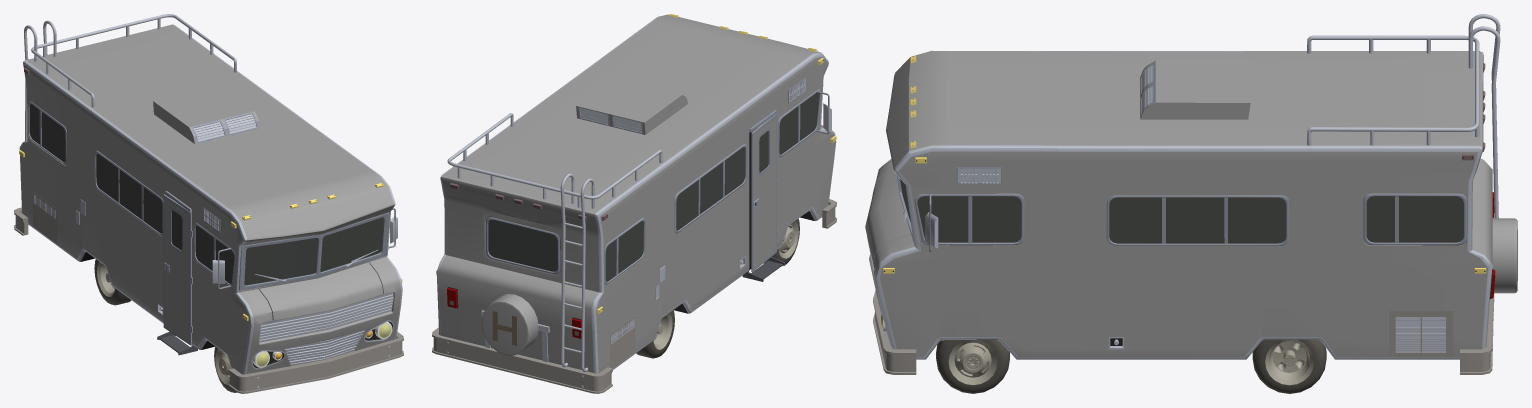
The model's file is MotorHome.fbx.
The picture shows the model from 3 angles, left to right: view 1: azimuth 30°, elevation 25°; view 2: azimuth 150°, elevation 25°; view 3: azimuth 270°, elevation 25°; orthographic projection. The views are drawn at different scales.
Parts seen in each view (by area): view 1: polySurface391, polySurface483, polySurface440, polySurface460, polySurface436, polySurface453, polySurface433, polySurface469, polySurface488, polySurface320, polySurface389, polySurface463 (+7 smaller); view 2: polySurface391, polySurface484, polySurface440, polySurface436, polySurface478, polySurface453, polySurface471, polySurface469, polySurface433, polySurface488, polySurface439, polySurface393 (+4 smaller); view 3: polySurface391, polySurface450, polySurface436, polySurface459, polySurface420, polySurface311, polySurface488, polySurface471, polySurface349, polySurface348, polySurface460, polySurface385 (+3 smaller).
Part boxes in pixels (x1=…): polySurface391: x1=19, y1=24, x2=402, y2=374; polySurface483: x1=239, y1=212, x2=389, y2=290; polySurface440: x1=163, y1=194, x2=191, y2=345; polySurface460: x1=228, y1=332, x2=403, y2=393; polySurface436: x1=153, y1=85, x2=260, y2=143; polySurface453: x1=94, y1=150, x2=163, y2=236; polySurface433: x1=28, y1=101, x2=66, y2=165; polySurface469: x1=193, y1=222, x2=235, y2=286; polySurface488: x1=31, y1=14, x2=236, y2=107; polySurface320: x1=94, y1=259, x2=131, y2=305; polySurface389: x1=33, y1=192, x2=57, y2=243; polySurface463: x1=260, y1=297, x2=393, y2=331; polySurface391: x1=436, y1=14, x2=836, y2=373; polySurface484: x1=432, y1=327, x2=612, y2=393; polySurface440: x1=751, y1=114, x2=776, y2=272; polySurface436: x1=576, y1=78, x2=687, y2=134; polySurface478: x1=486, y1=217, x2=560, y2=274; polySurface453: x1=674, y1=144, x2=746, y2=233; polySurface471: x1=481, y1=294, x2=538, y2=355; polySurface469: x1=778, y1=89, x2=821, y2=157; polySurface433: x1=604, y1=217, x2=645, y2=284; polySurface488: x1=447, y1=113, x2=662, y2=199; polySurface439: x1=580, y1=178, x2=594, y2=372; polySurface393: x1=560, y1=173, x2=574, y2=367; polySurface391: x1=865, y1=50, x2=1492, y2=359; polySurface450: x1=1106, y1=195, x2=1289, y2=245; polySurface436: x1=1140, y1=60, x2=1250, y2=119; polySurface459: x1=1363, y1=193, x2=1467, y2=245; polySurface420: x1=914, y1=193, x2=1024, y2=245; polySurface311: x1=1252, y1=339, x2=1326, y2=393; polySurface488: x1=1307, y1=35, x2=1479, y2=145; polySurface471: x1=1492, y1=218, x2=1517, y2=293; polySurface349: x1=948, y1=340, x2=997, y2=384; polySurface348: x1=936, y1=340, x2=1009, y2=393; polySurface460: x1=873, y1=290, x2=916, y2=374; polySurface385: x1=1389, y1=311, x2=1453, y2=357.
Bounding box in the file's own units: 12.14 × 14.08 × 27.96.
